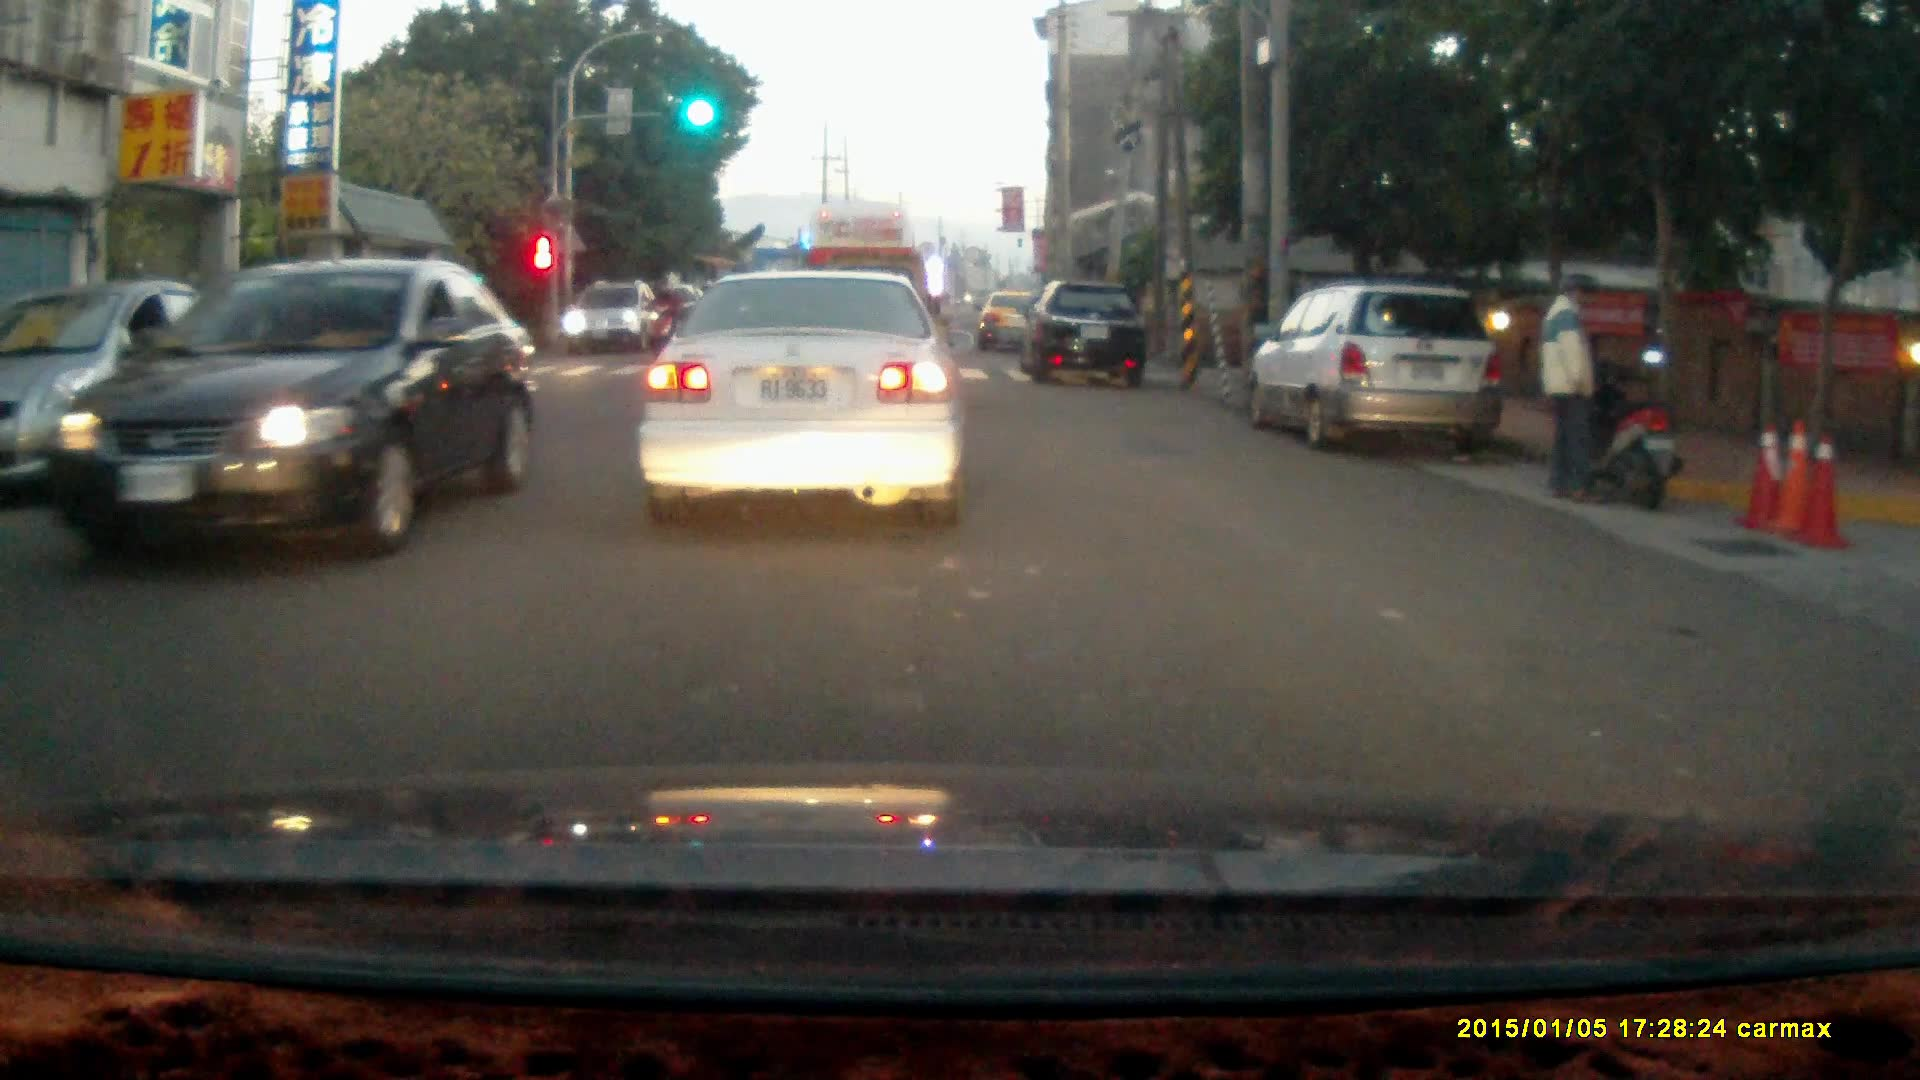pedestrian: (1534, 272, 1605, 509)
rider: (643, 275, 685, 363)
vehicle: (38, 259, 510, 566), (636, 273, 963, 531), (1260, 288, 1507, 463), (805, 204, 926, 373), (1023, 279, 1157, 388), (566, 281, 663, 354)
